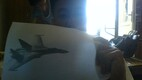maybay_muctieu: (8, 33, 69, 72)
